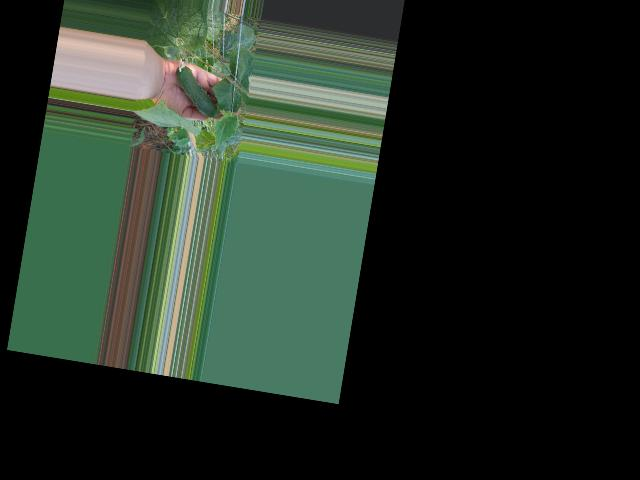cucumber: (169, 57, 224, 117)
